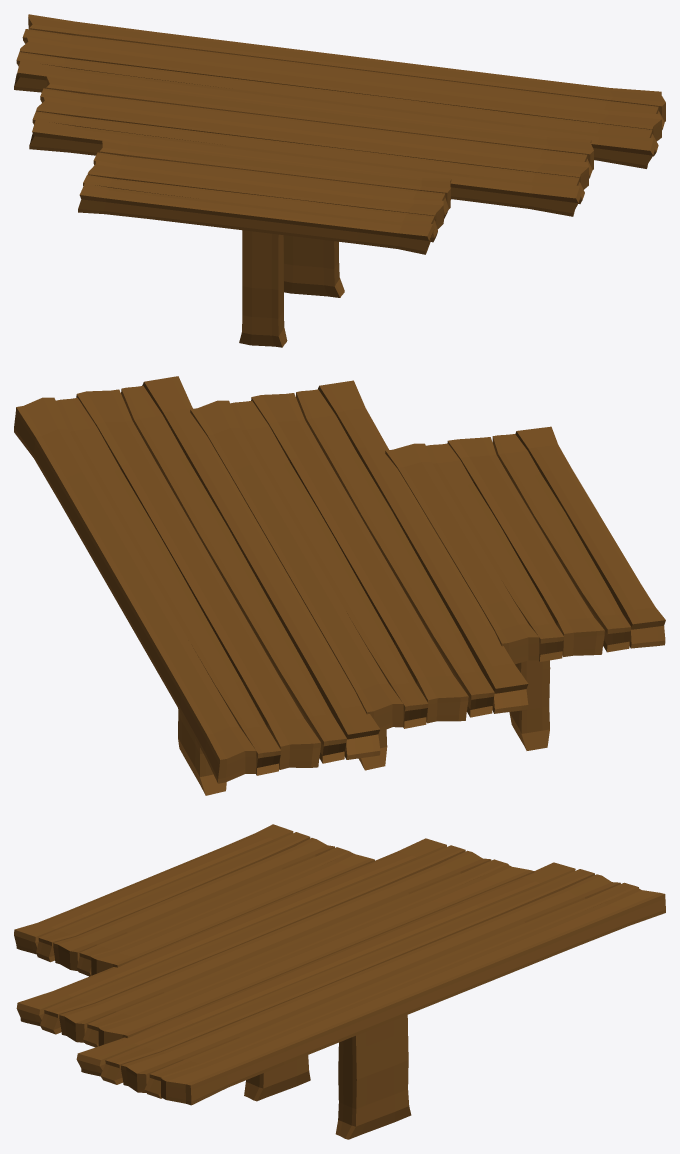
File: stage.fbx
The picture shows the model from 3 angles, top to bottom: view 1: azimuth 30°, elevation 25°; view 2: azimuth 150°, elevation 25°; view 3: azimuth 270°, elevation 25°; orthographic projection. The views are drawn at different scales.
Visible parts, largest first — view 1: stage; view 2: stage; view 3: stage.
Part boxes in pixels (x1=…): stage: x1=14, y1=14, x2=665, y2=347; stage: x1=14, y1=376, x2=665, y2=795; stage: x1=14, y1=824, x2=665, y2=1139.
Size of the model in its own units: 1061 by 292 by 1108.
